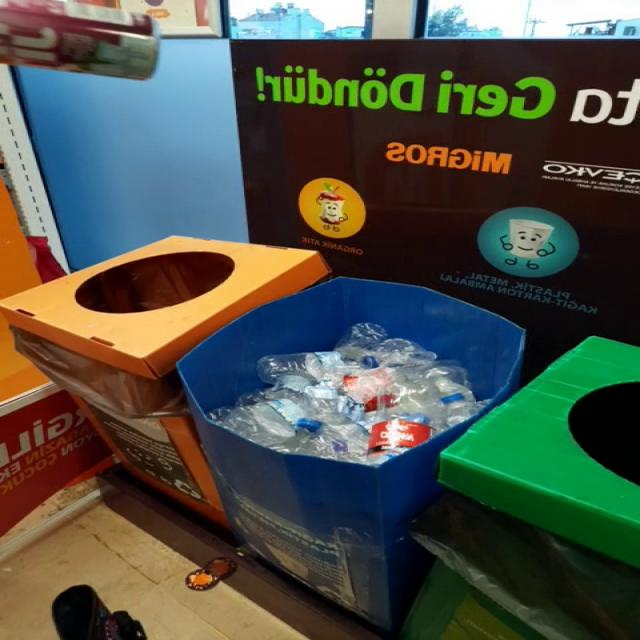bin: (177, 277, 525, 632), (0, 236, 327, 378)
metal: (0, 0, 157, 79)
